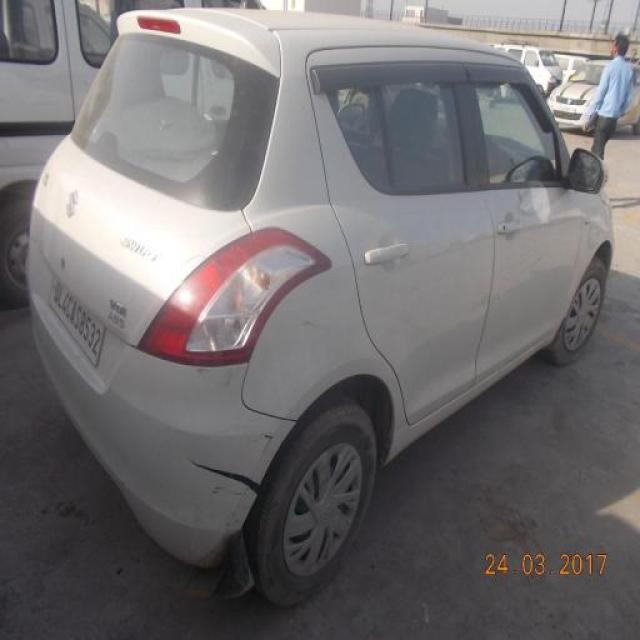misalignment: (189, 453, 264, 500)
scratch: (261, 429, 277, 463)
